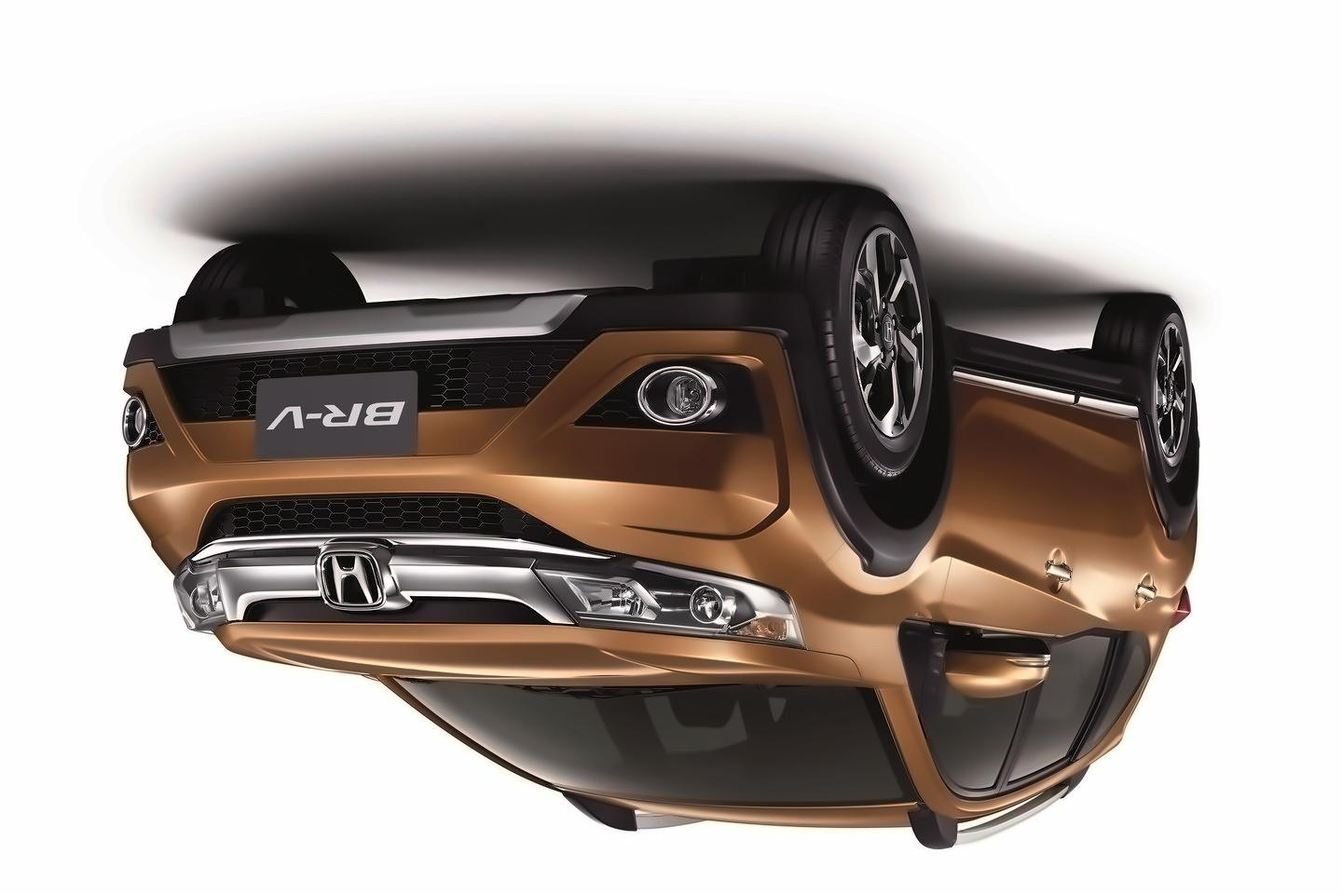Car hood: (205, 612, 870, 695)
Driver-s door - -F-R-: (878, 280, 1098, 838)
Fender - -F-R-: (765, 381, 982, 707)
Fender - -R-R-: (1120, 402, 1205, 700)
Front bumper: (120, 272, 842, 601)
Headlight - -L-: (174, 550, 231, 638)
Headlight - -R-: (530, 547, 801, 653)
Passenger-s door - -R-R-: (982, 294, 1165, 826)
Side bumper - -R-: (932, 314, 1150, 462)
Side mirror - -R-: (913, 618, 1051, 698)
